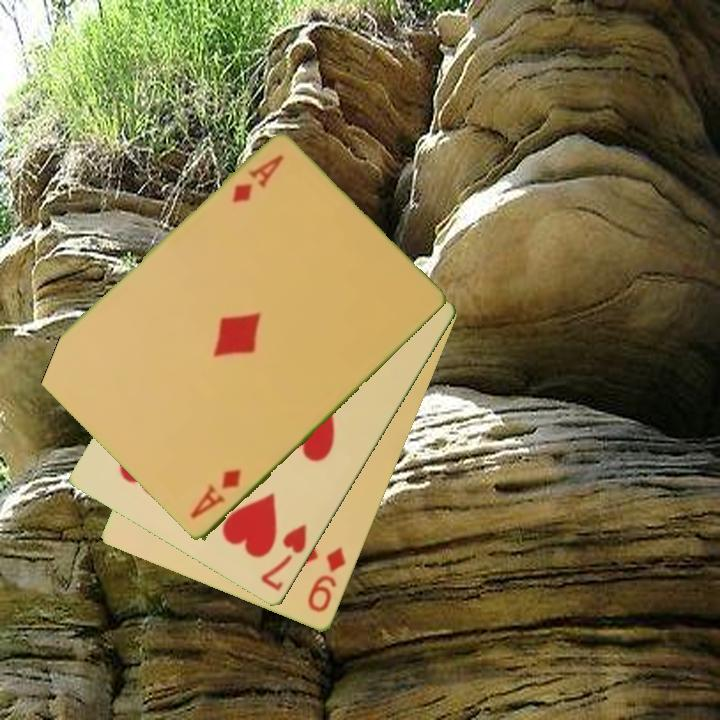7h: (257, 521, 310, 595)
9d: (304, 544, 349, 616)
Ad: (186, 466, 244, 522), (229, 152, 287, 207)
